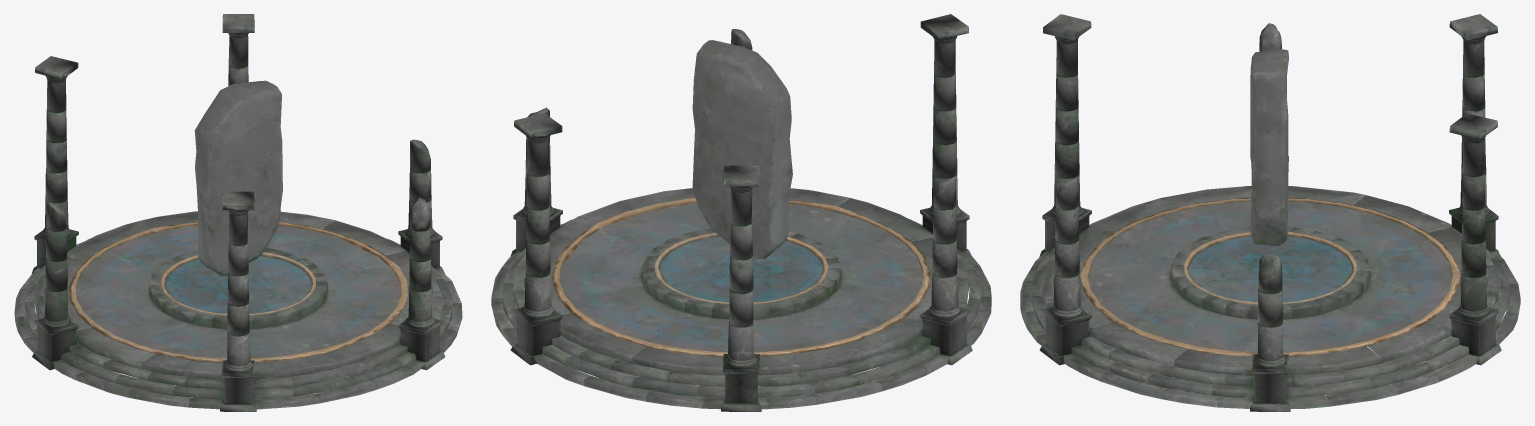
Rendered from PRP_Waypoint_Gen_lod.glb.
3 renders of one model, left to right at view 1: azimuth 30°, elevation 25°; view 2: azimuth 150°, elevation 25°; view 3: azimuth 270°, elevation 25°, orthographic. The views are drawn at different scales.
Parts seen in each view (by area): view 1: stone_platform_0, top_pillars_0; view 2: stone_platform_0, top_pillars_0; view 3: stone_platform_0, top_pillars_0.
Part boxes in pixels (x1,y1,x2,y2): stone_platform_0: (14, 80, 462, 409); top_pillars_0: (31, 14, 444, 411); stone_platform_0: (491, 40, 991, 409); top_pillars_0: (510, 14, 972, 411); stone_platform_0: (1020, 49, 1520, 408); top_pillars_0: (1039, 14, 1501, 411).
Size of the model in its own units: 11.2 by 6.1 by 10.98.
Materials: 2 (2 with a texture image).
